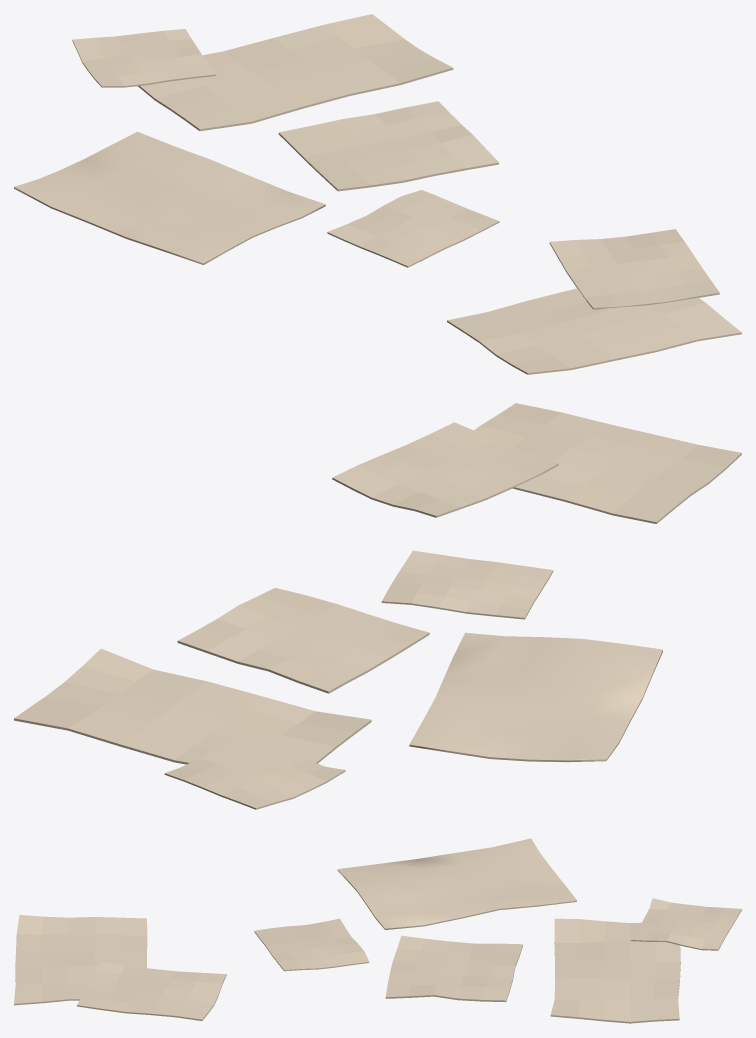
Rendered from Paper.fbx.
3 renders of one model, top to bottom at view 1: azimuth 30°, elevation 25°; view 2: azimuth 150°, elevation 25°; view 3: azimuth 270°, elevation 25°, orthographic. The views are drawn at different scales.
Parts seen in each view (by area): view 1: Cube.006, Cube.004, Cube, Cube.003, Cube.001, Cube.002, Cube.005; view 2: Cube.006, Cube.004, Cube, Cube.003, Cube.001, Cube.002, Cube.005; view 3: Cube.006, Cube.004, Cube, Cube.003, Cube.001, Cube.002, Cube.005.
Part boxes in pixels (left/top/right/bottom): Cube.006: left=14, top=131, right=325, bottom=264; Cube.004: left=138, top=14, right=453, bottom=131; Cube: left=447, top=288, right=741, bottom=374; Cube.003: left=278, top=101, right=498, bottom=191; Cube.001: left=549, top=229, right=719, bottom=309; Cube.002: left=327, top=190, right=499, bottom=267; Cube.005: left=72, top=29, right=216, bottom=87; Cube.006: left=409, top=632, right=662, bottom=762; Cube.004: left=14, top=648, right=371, bottom=764; Cube: left=474, top=403, right=741, bottom=523; Cube.003: left=177, top=587, right=429, bottom=693; Cube.001: left=332, top=422, right=558, bottom=517; Cube.002: left=381, top=550, right=553, bottom=619; Cube.005: left=164, top=735, right=345, bottom=809; Cube.006: left=337, top=838, right=576, bottom=929; Cube.004: left=550, top=918, right=680, bottom=1023; Cube: left=14, top=915, right=147, bottom=1005; Cube.003: left=385, top=935, right=522, bottom=1002; Cube.001: left=77, top=961, right=226, bottom=1020; Cube.002: left=254, top=918, right=369, bottom=971; Cube.005: left=630, top=898, right=741, bottom=950.
Size of the model in its own units: 816 by 26.85 by 1405.
